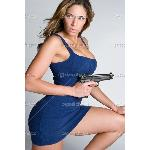Pistol: (75, 72, 115, 98)
